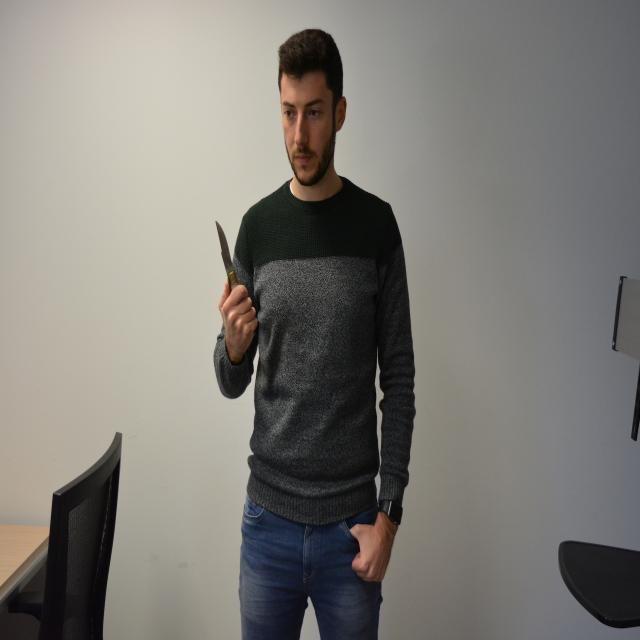knife: (214, 218, 243, 290)
